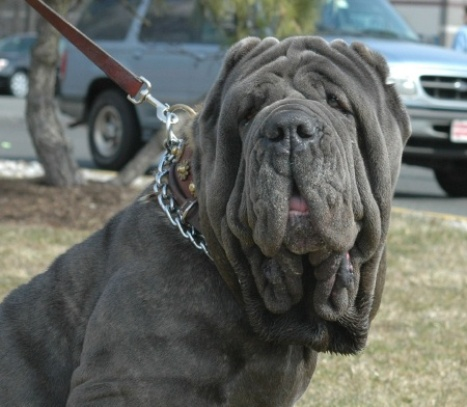neapolitan_mastiff: (0, 35, 412, 407)
